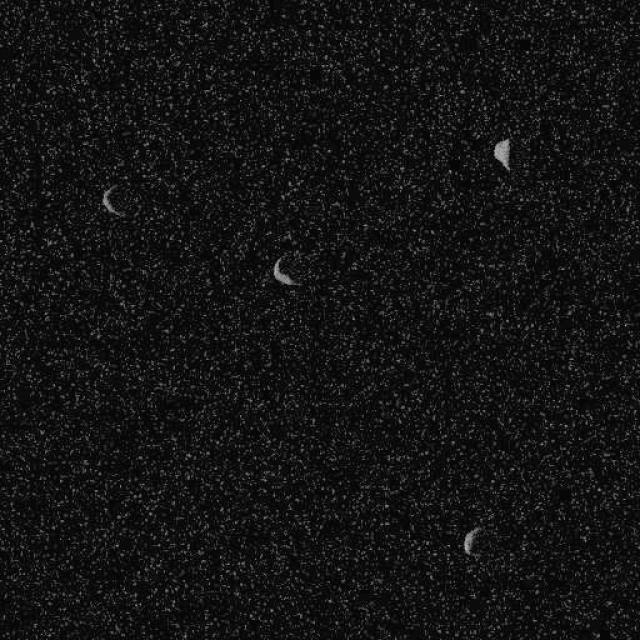D2: (271, 252, 301, 286), (100, 182, 126, 218), (461, 524, 484, 556), (491, 136, 511, 172)
